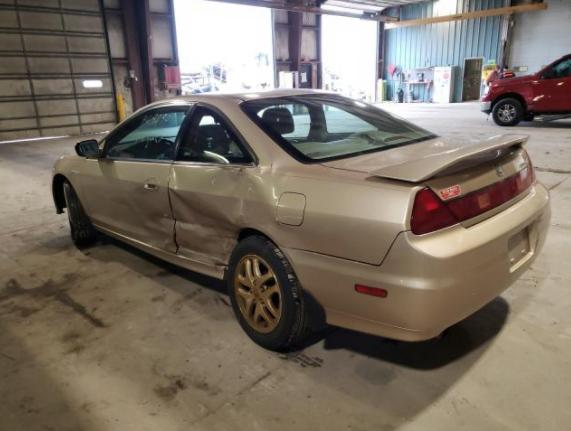Back-bumper: (278, 181, 551, 342)
Back-wheel: (227, 235, 314, 351)
Back-window: (174, 107, 253, 163)
Back-windshield: (238, 94, 443, 164)
Fender: (51, 155, 93, 222)
Front-door: (81, 102, 198, 254)
Front-wheel: (63, 181, 97, 246)
Front-window: (108, 105, 192, 158)
Mirror: (75, 139, 103, 158)
Quarter-panel: (168, 161, 429, 267)
Rocker-panel: (91, 222, 226, 280)
Roof: (150, 89, 342, 106)
Tail-light: (410, 164, 537, 235)
Trunk: (320, 133, 538, 227)
